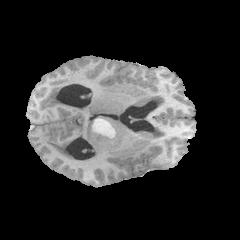glioma: (87, 116, 121, 149)
